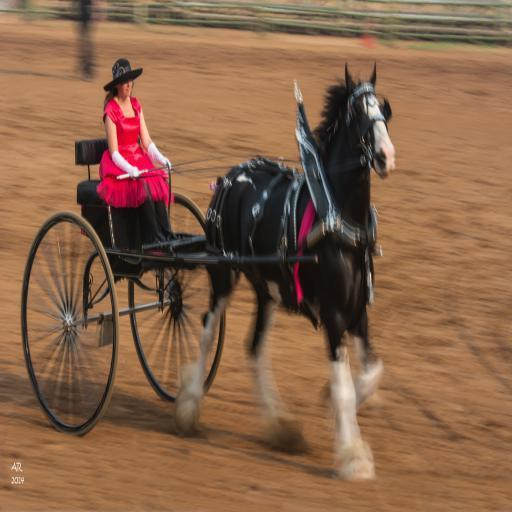horse: (172, 60, 398, 482)
